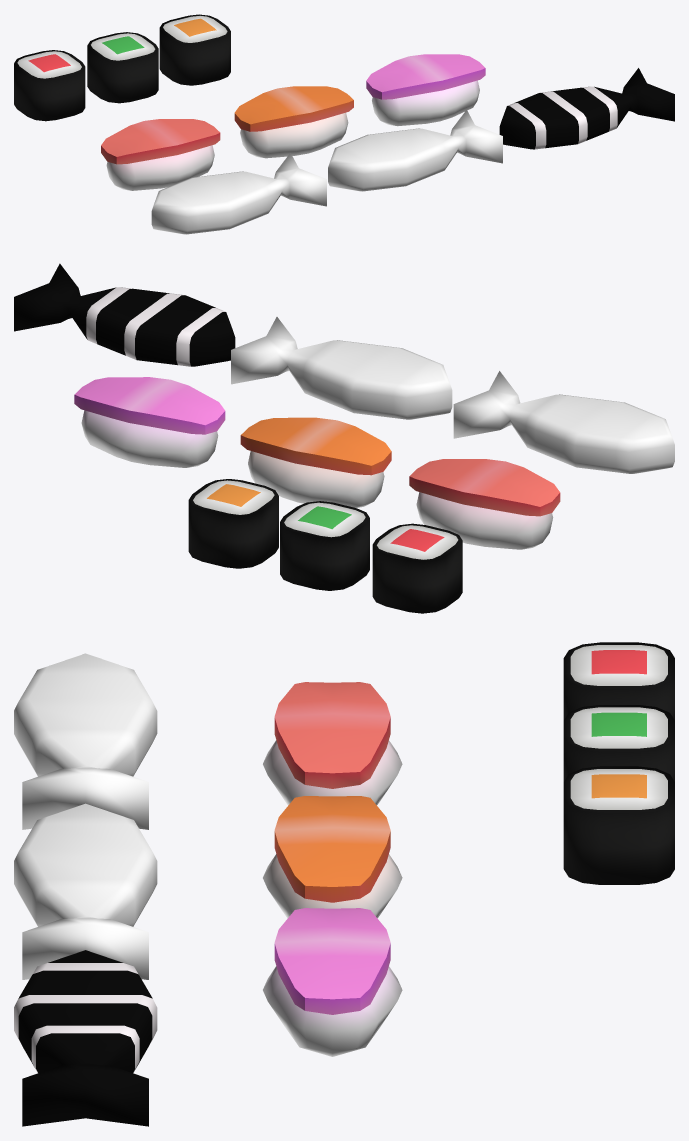
Rendered from food.fbx.
3 views of the same model, one above another, from view 1: azimuth 30°, elevation 25°; view 2: azimuth 150°, elevation 25°; view 3: azimuth 270°, elevation 25° (orthographic). The views are drawn at different scales.
Visible parts, largest first — view 1: fish orange, fish pink, fish abibas, roll orange, roll green, roll red, Cube.003, Cube.024, Cube.023, sushi pink, sushi orange, sushi red; view 2: fish orange, fish pink, fish abibas, roll red, roll orange, roll green, Cube.003, Cube.024, Cube.023, sushi pink, sushi red, sushi orange; view 3: fish abibas, fish orange, fish pink, roll orange, Cube.024, Cube.023, Cube.003, roll red, roll green, sushi pink, sushi red, sushi orange.
Part boxes in pixels (x1=…): fish orange: x1=151, y1=153, x2=326, y2=234; fish pink: x1=328, y1=110, x2=502, y2=191; fish abibas: x1=499, y1=68, x2=674, y2=149; roll orange: x1=159, y1=14, x2=230, y2=85; roll green: x1=87, y1=32, x2=158, y2=103; roll red: x1=14, y1=50, x2=85, y2=121; Cube.003: x1=234, y1=86, x2=353, y2=131; Cube.024: x1=366, y1=54, x2=485, y2=99; Cube.023: x1=101, y1=119, x2=220, y2=164; sushi pink: x1=372, y1=80, x2=479, y2=126; sushi orange: x1=240, y1=112, x2=348, y2=158; sushi red: x1=106, y1=145, x2=214, y2=190; fish orange: x1=453, y1=371, x2=674, y2=473; fish pink: x1=231, y1=317, x2=452, y2=419; fish abibas: x1=14, y1=263, x2=235, y2=366; roll red: x1=372, y1=523, x2=462, y2=613; roll orange: x1=188, y1=479, x2=278, y2=568; roll green: x1=280, y1=501, x2=369, y2=590; Cube.003: x1=240, y1=417, x2=391, y2=475; Cube.024: x1=74, y1=377, x2=225, y2=434; Cube.023: x1=409, y1=459, x2=560, y2=516; sushi pink: x1=81, y1=410, x2=218, y2=467; sushi red: x1=416, y1=492, x2=553, y2=549; sushi orange: x1=248, y1=451, x2=384, y2=507; fish abibas: x1=14, y1=950, x2=157, y2=1126; fish orange: x1=14, y1=653, x2=157, y2=829; fish pink: x1=14, y1=803, x2=157, y2=979; roll orange: x1=563, y1=766, x2=674, y2=884; Cube.024: x1=274, y1=908, x2=390, y2=1014; Cube.023: x1=274, y1=682, x2=390, y2=788; Cube.003: x1=274, y1=796, x2=390, y2=902; roll red: x1=563, y1=642, x2=674, y2=720; roll green: x1=563, y1=705, x2=674, y2=781; sushi pink: x1=263, y1=966, x2=402, y2=1056; sushi red: x1=263, y1=740, x2=402, y2=805; sushi orange: x1=263, y1=854, x2=402, y2=918.
Size of the model in its own units: 695 by 86.53 by 451.
